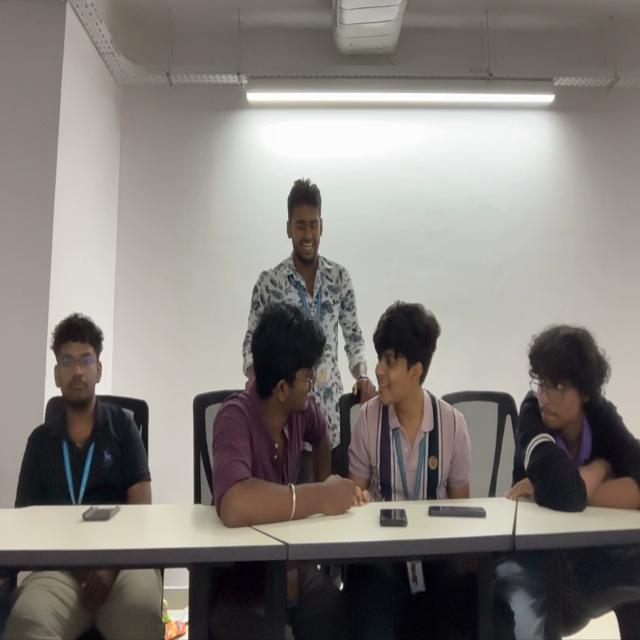Isolated: (21, 316, 150, 508), (518, 326, 638, 513)
socializing: (216, 179, 472, 506)
